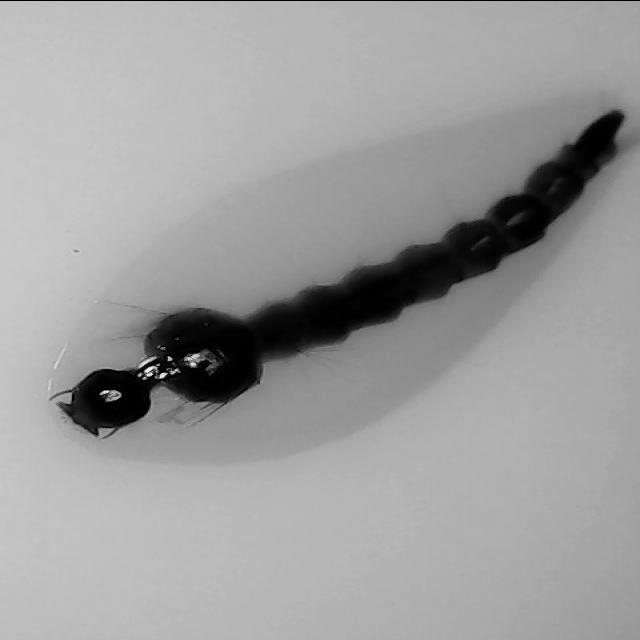larvas: (67, 109, 620, 434)
